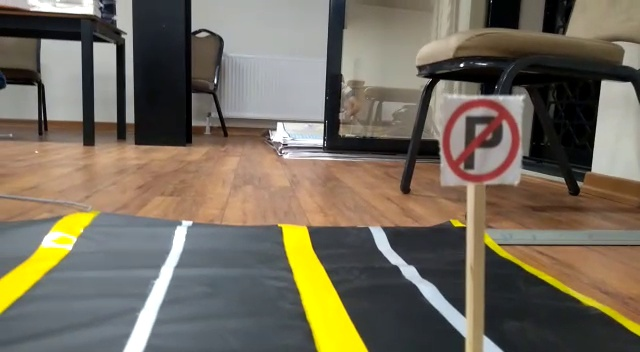park_yapilmaz: (439, 95, 522, 187)
